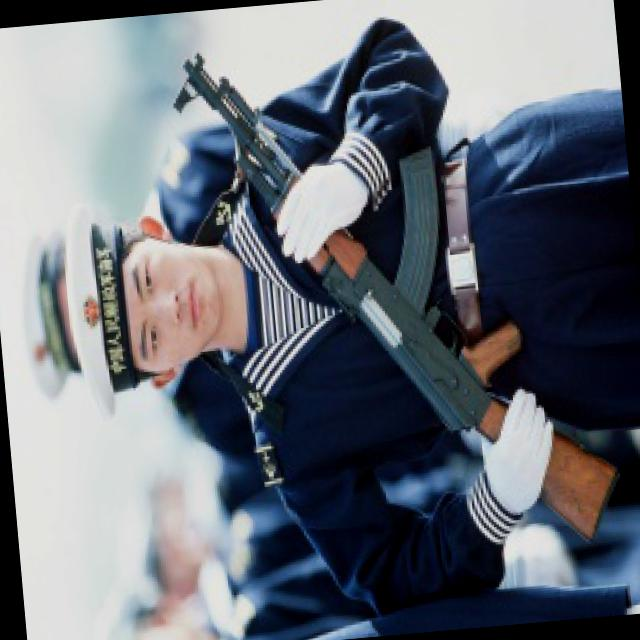long weapon: (146, 23, 640, 594)
